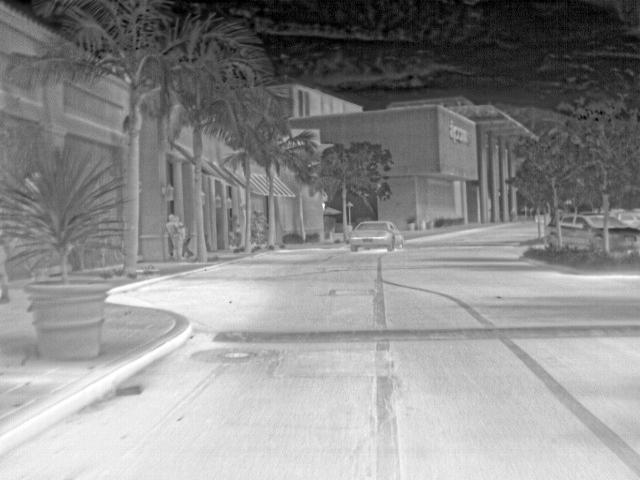car: (349, 220, 404, 254), (563, 211, 603, 251), (611, 225, 639, 255), (613, 210, 640, 223)
person: (166, 213, 187, 262)
